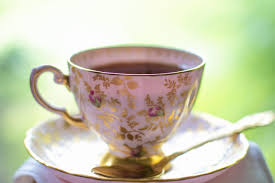Cup: (16, 28, 262, 178)
